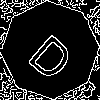D: (25, 25, 83, 84)
